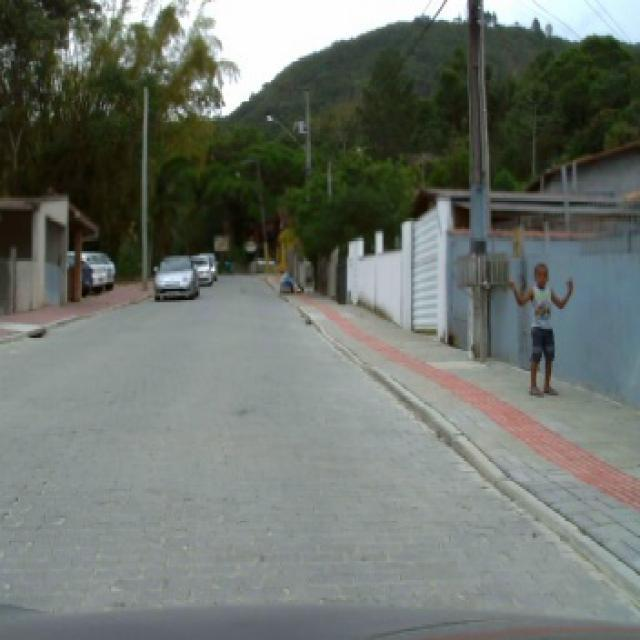Poth-hole: (26, 327, 46, 338)
